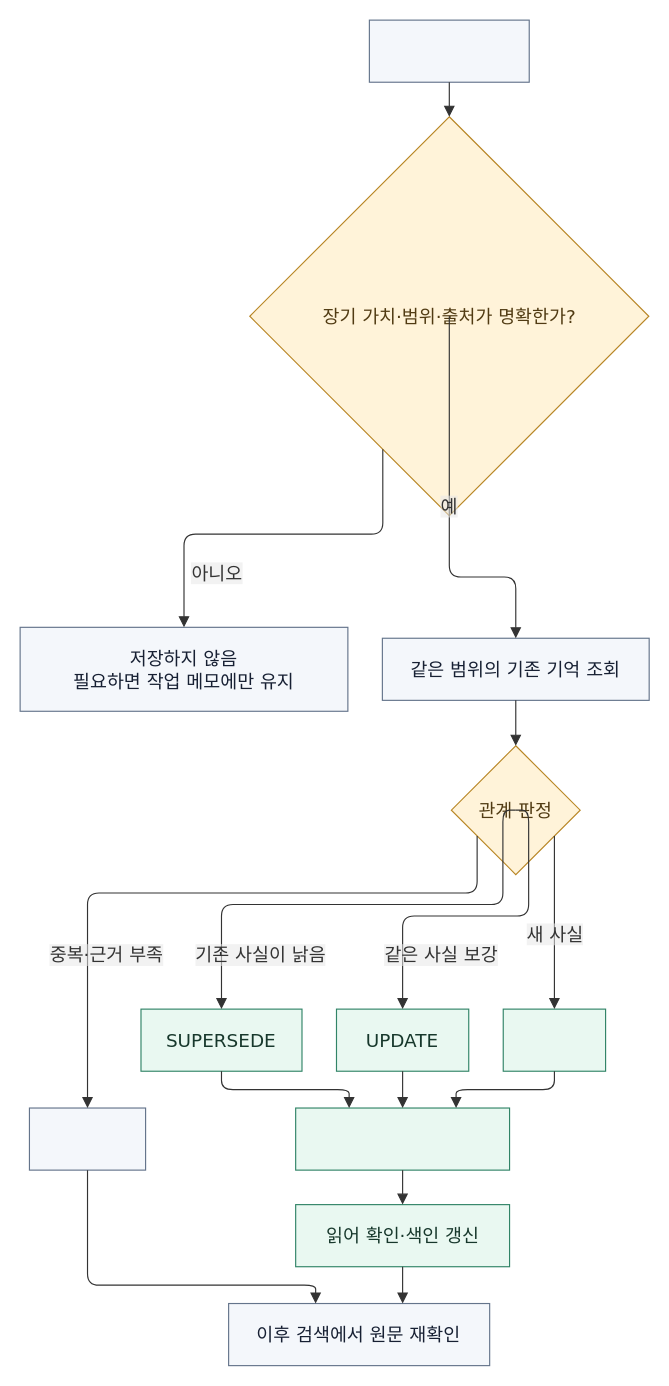
Image size: 669x1386. Some labels were removed from this diagram. Here are the shapes that lost their labels. From the top down, the centre of each, then its label:
the point at 448,50: 명시적 요청·선택한 후보
the point at 554,1039: ADD
the point at 87,1138: NOOP
the point at 402,1138: 정본 쓰기·출처 기록
